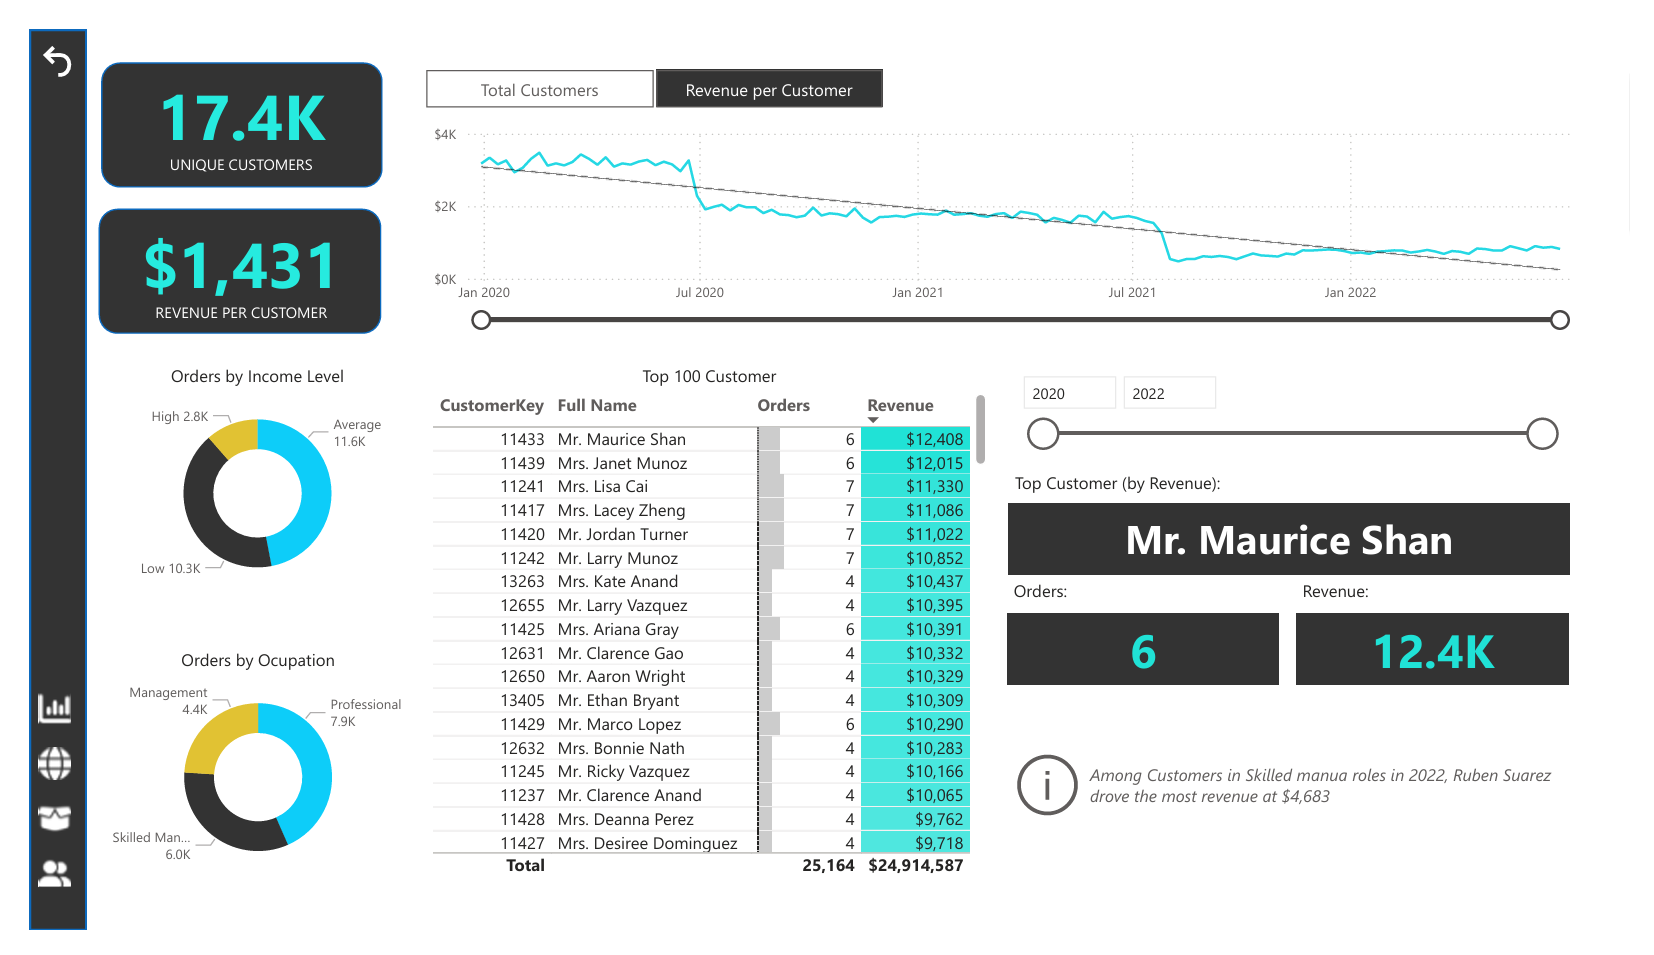

What the dashboard file says about the page in this screenshot:
{"tool":"powerbi","page":{"name":"Customer Detail","canvas":[1280,720],"ordinal":3},"visuals":[{"type":"lineChart","fields":{"Y":["Measure Table.Average Revenue per Customer"],"Category":["Calendar Lookup.Date Hierarchy.Start of Year","Calendar Lookup.Date Hierarchy.Start of Month","Calendar Lookup.Date Hierarchy.Start of Week","Calendar Lookup.Date Hierarchy.Date"]},"box":[318,69.3,932.5,173.8],"z":500},{"type":"shape","box":[0,0,45,720.3],"z":1000},{"type":"actionButton","box":[3.1,525.8,38.1,34],"z":1000,"group":"g1"},{"type":"shape","box":[55.4,143.2,225.7,100],"z":2000},{"type":"actionButton","box":[3.1,569.8,38.1,34],"z":2000,"group":"g1"},{"type":"shape","box":[56.8,25.7,225.7,100],"z":3000},{"type":"actionButton","box":[3.1,613.8,38.1,34],"z":3000,"group":"g1"},{"type":"card","fields":{"Values":["Measure Table.Average Revenue per Customer"]},"box":[56.8,117.6,224.3,150],"z":4000},{"type":"actionButton","box":[3.1,657.8,38.1,34],"z":4000,"group":"g1"},{"type":"card","fields":{"Values":["Measure Table.Total Customers"]},"box":[56.8,0,224.3,150],"z":5000},{"type":"donutChart","title":"Orders by Income Level","fields":{"Category":["Customer Lookup.Income Level"],"Y":["Measure Table.Total Orders"]},"box":[56.9,268.3,249.7,187],"z":6000},{"type":"donutChart","title":"Orders by Ocupation","fields":{"Category":["Customer Lookup.Occupation"],"Y":["Measure Table.Total Orders"]},"box":[58.1,494.8,248.6,187],"z":7000},{"type":"tableEx","title":"Top 100 Customer","fields":{"Values":["Customer Lookup.CustomerKey","Customer Lookup.Full Name ","Measure Table.Total Orders","Measure Table.Total Revenue"]},"box":[317,267.8,453.1,414.6],"z":8000},{"type":"card","fields":{"Values":["Customer Lookup.Full Name (Customer Detail)"]},"box":[783,379.5,448.9,56.9],"z":9000},{"type":"card","fields":{"Values":["Measure Table.Total Orders"]},"box":[782,467.3,217.5,56.9],"z":10000},{"type":"card","fields":{"Values":["Measure Table.Total Revenue (Customer Detail)"]},"box":[1013.5,467.3,217.5,56.9],"z":11000},{"type":"textbox","box":[783,347.5,183.6,31.9],"z":12000},{"type":"textbox","box":[782,435.3,217.5,31.9],"z":13000},{"type":"textbox","box":[1013.5,435.3,217.5,31.9],"z":14000},{"type":"slicer","fields":{"Values":["Calendar Lookup.Date.Variation.Date Hierarchy.Year"]},"box":[781.7,267.2,449.5,88.3],"z":15000},{"type":"actionButton","box":[782.1,548.3,449.5,63.5],"z":16000},{"type":"actionButton","box":[4.7,3.5,34.1,42.3],"z":17000},{"type":"group","id":"g1","title":"Navigation Buttons","box":[3.1,525.8,38.1,166],"z":18000},{"type":"slicer","fields":{"Values":["Customer Metric Selection.Customer Metric Selection"]},"box":[290.8,25,415.7,44.3],"z":20000}]}

Visuals, with their boxes on the page's 1280x720 design canvas (x1, y1, x2, y2). These are canvas units, not pixel positions in the 1654x955 screenshot, which may show the page scaled, cropped or inside an application window:
lineChart - Measure Table.Average Revenue per Customer x Calendar Lookup.Date Hierarchy.Start of Year: box=[318, 69, 1250, 243]
shape: box=[0, 0, 45, 720]
actionButton: box=[3, 526, 41, 560]
shape: box=[55, 143, 281, 243]
actionButton: box=[3, 570, 41, 604]
shape: box=[57, 26, 282, 126]
actionButton: box=[3, 614, 41, 648]
card - Measure Table.Average Revenue per Customer: box=[57, 118, 281, 268]
actionButton: box=[3, 658, 41, 692]
card - Measure Table.Total Customers: box=[57, 0, 281, 150]
"Orders by Income Level" donutChart: box=[57, 268, 307, 455]
"Orders by Ocupation" donutChart: box=[58, 495, 307, 682]
"Top 100 Customer" tableEx: box=[317, 268, 770, 682]
card - Customer Lookup.Full Name (Customer Detail): box=[783, 380, 1232, 436]
card - Measure Table.Total Orders: box=[782, 467, 1000, 524]
card - Measure Table.Total Revenue (Customer Detail): box=[1014, 467, 1231, 524]
textbox: box=[783, 348, 967, 379]
textbox: box=[782, 435, 1000, 467]
textbox: box=[1014, 435, 1231, 467]
slicer - Calendar Lookup.Date.Variation.Date Hierarchy.Year: box=[782, 267, 1231, 356]
actionButton: box=[782, 548, 1232, 612]
actionButton: box=[5, 4, 39, 46]
"Navigation Buttons" group: box=[3, 526, 41, 692]
slicer - Customer Metric Selection.Customer Metric Selection: box=[291, 25, 706, 69]
